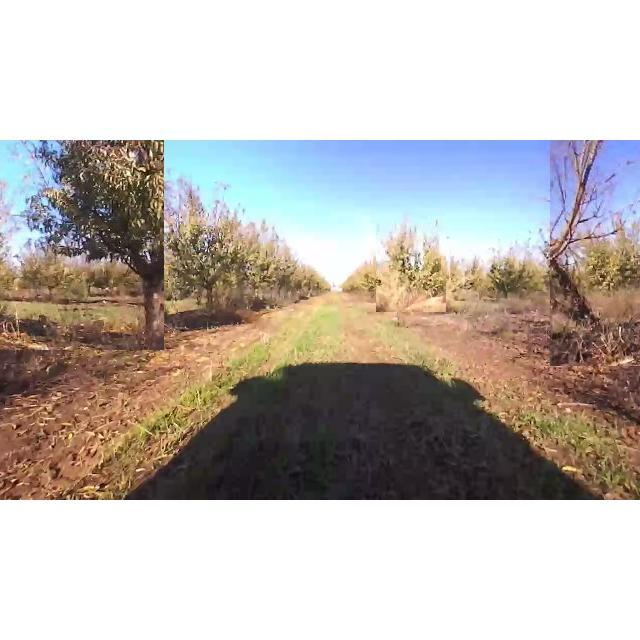direk: (0, 140, 164, 350), (550, 140, 640, 366), (154, 178, 236, 326), (376, 206, 446, 312), (472, 245, 540, 302)
